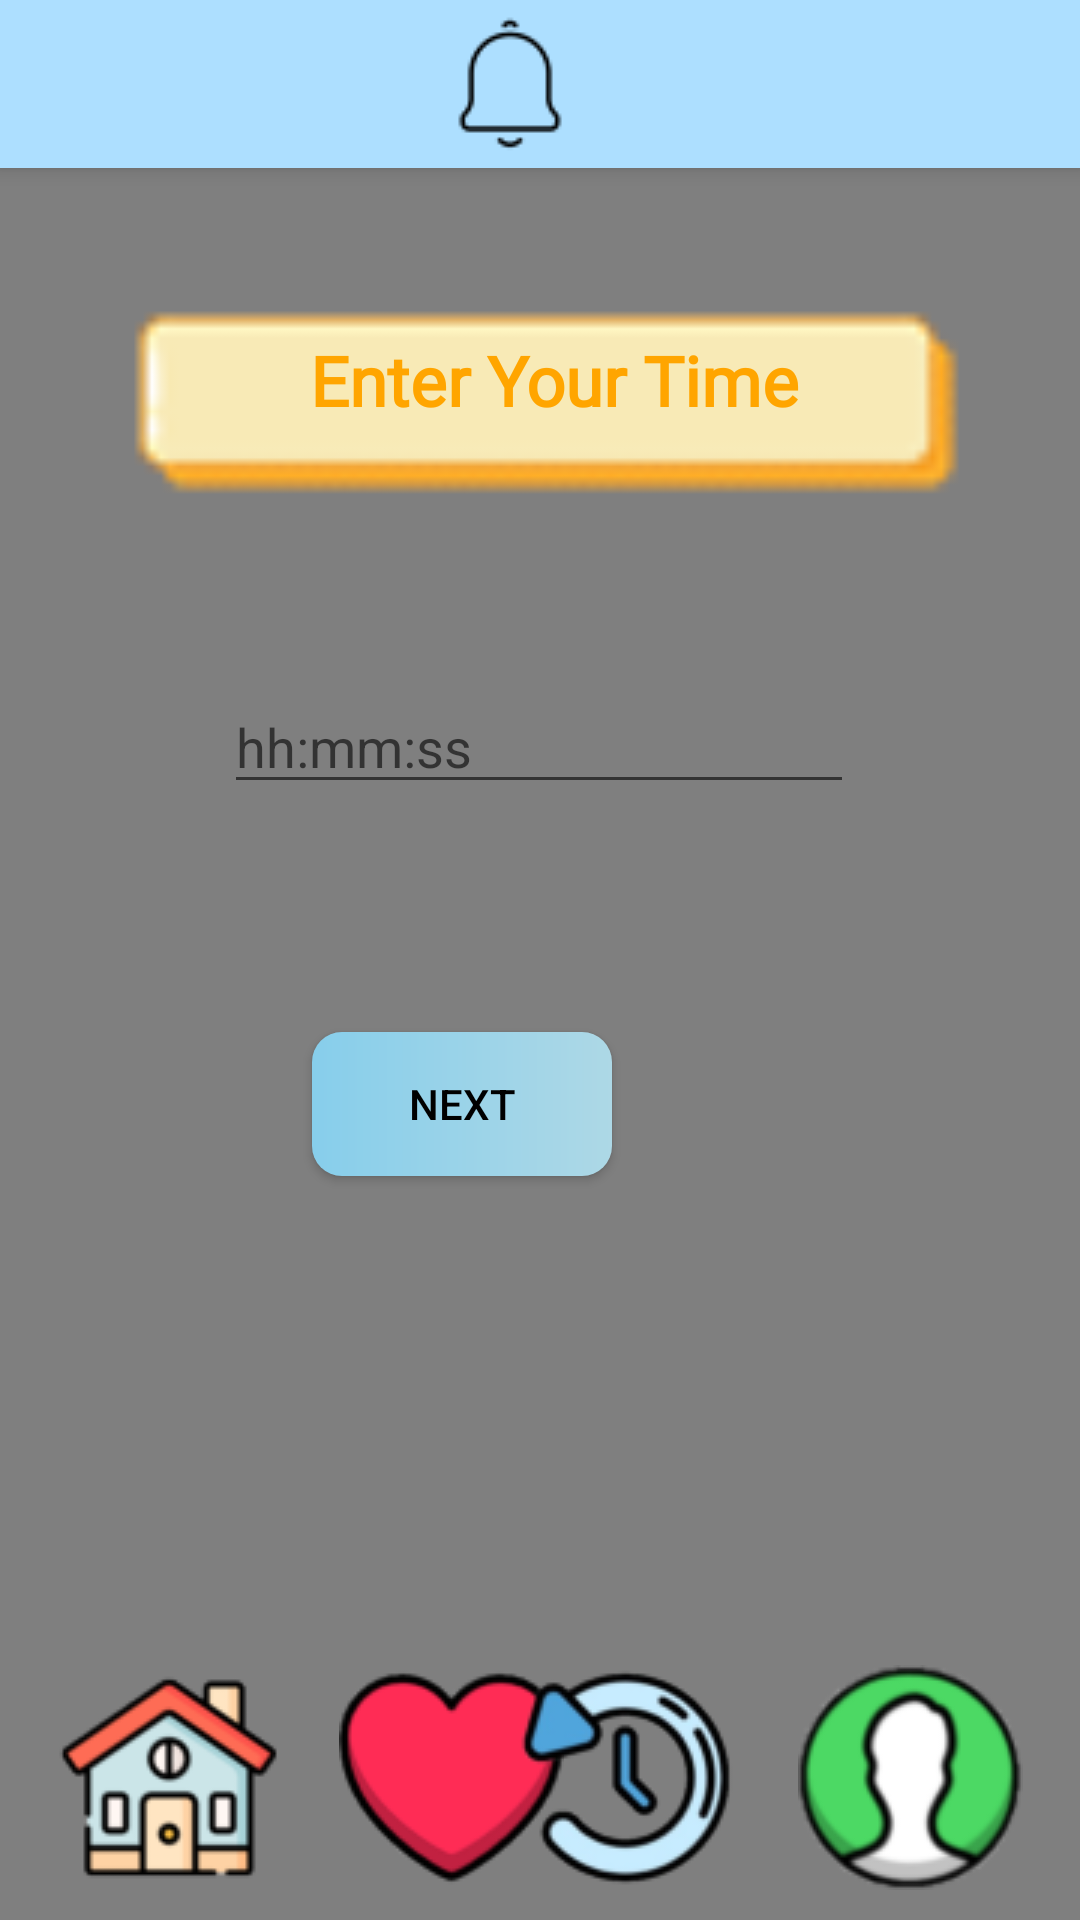

Screen size 1080px x 1920px. Icon name, then its center in pixels as (x,y):
heart: (451,1777)
history: (623,1777)
home: (169,1777)
notification: (510,83)
profile: (909,1777)
